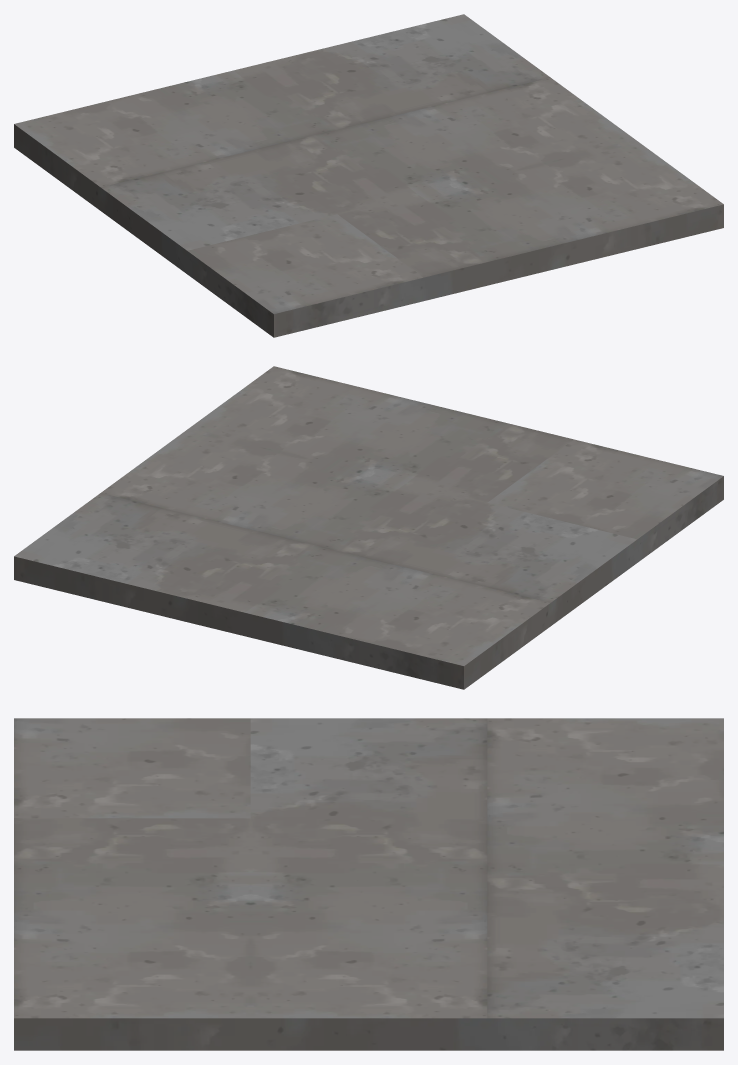
The model's file is Sidewalk_NoCurb_3m.glb.
3 views of the same model, one above another, from view 1: azimuth 30°, elevation 25°; view 2: azimuth 150°, elevation 25°; view 3: azimuth 270°, elevation 25° (orthographic). The views are drawn at different scales.
Visible parts, largest first — view 1: Sidewalk_NoCurb_3m; view 2: Sidewalk_NoCurb_3m; view 3: Sidewalk_NoCurb_3m.
Part boxes in pixels (box(x1,y1,x2,y2)): Sidewalk_NoCurb_3m: box(14, 14, 723, 337); Sidewalk_NoCurb_3m: box(14, 366, 723, 689); Sidewalk_NoCurb_3m: box(14, 718, 723, 1050).
Size of the model in its own units: 3 by 0.1502 by 3.
1 material, 1 textured.
